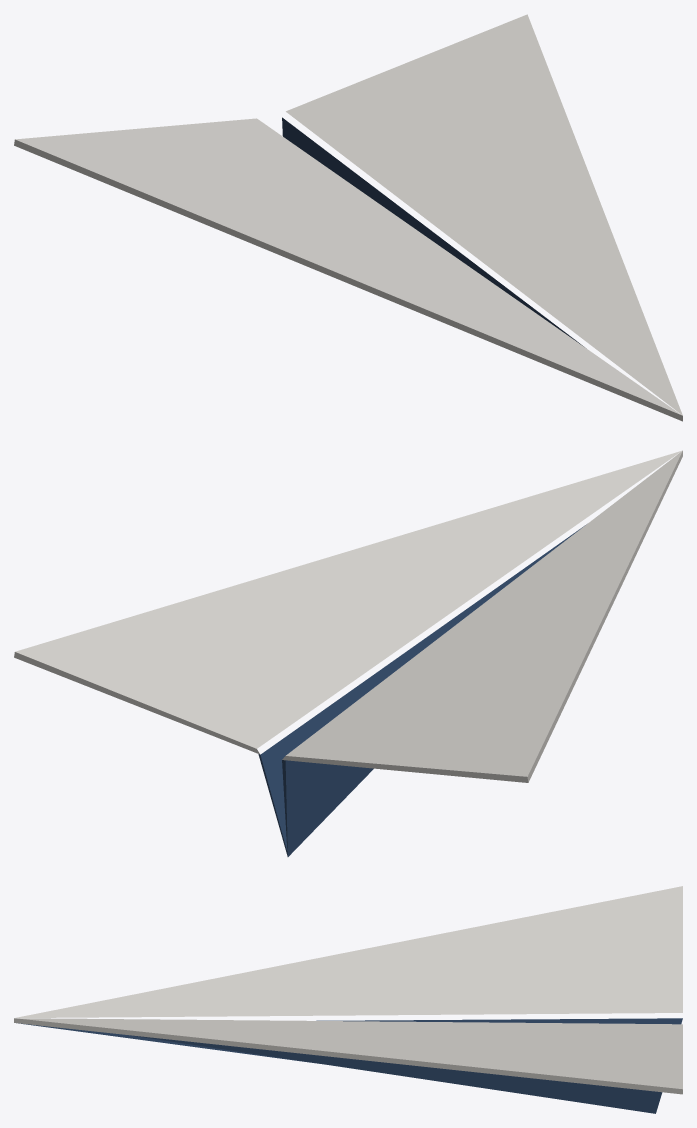
File: paper-plane.glb
The picture shows the model from 3 angles, top to bottom: view 1: azimuth 30°, elevation 25°; view 2: azimuth 150°, elevation 25°; view 3: azimuth 270°, elevation 25°; orthographic projection. The views are drawn at different scales.
Visible parts, largest first — view 1: paper-plane; view 2: paper-plane; view 3: paper-plane.
Part boxes in pixels (left/top/right/bottom): paper-plane: left=14, top=14, right=682, bottom=421; paper-plane: left=14, top=450, right=682, bottom=856; paper-plane: left=14, top=886, right=682, bottom=1113.
Size of the model in its own units: 1.44 by 0.4165 by 2.
